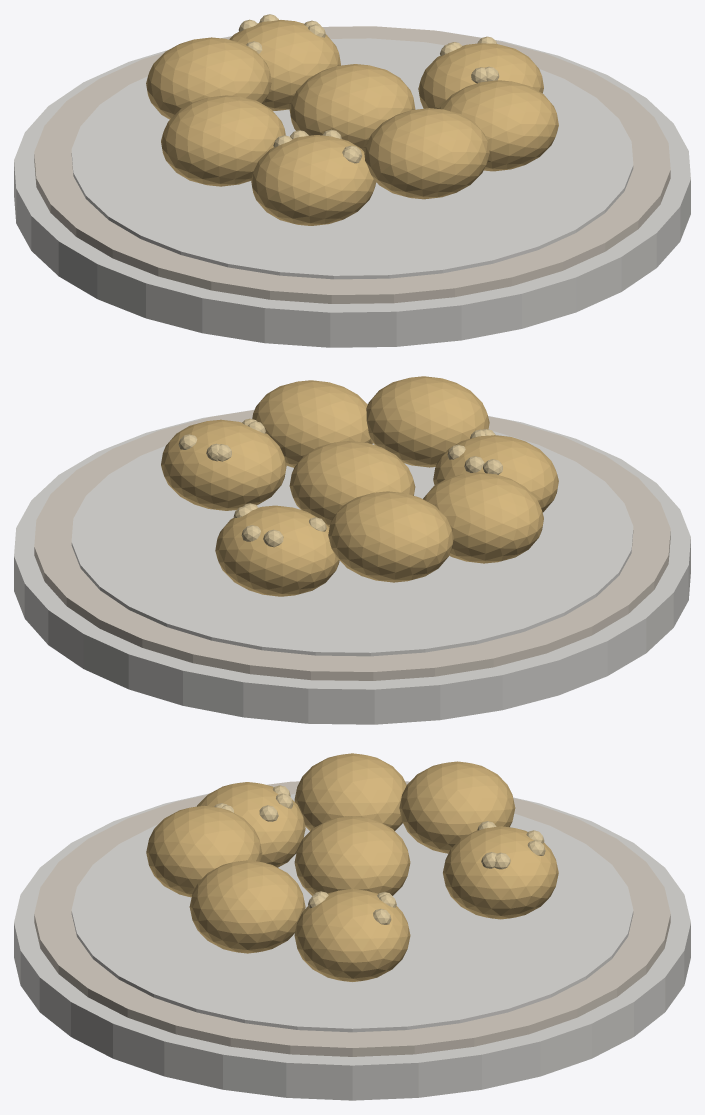
File: ga_vien.glb
3 renders of one model, top to bottom at view 1: azimuth 30°, elevation 25°; view 2: azimuth 150°, elevation 25°; view 3: azimuth 270°, elevation 25°, orthographic.
Visible parts, largest first — view 1: obj_0002, obj_0000, obj_0001, obj_0015, obj_0021, obj_0027, obj_0045, obj_0033, obj_0009, obj_0039, obj_0003; view 2: obj_0002, obj_0000, obj_0001, obj_0033, obj_0003, obj_0039, obj_0015, obj_0027, obj_0009, obj_0045, obj_0021; view 3: obj_0002, obj_0000, obj_0001, obj_0009, obj_0003, obj_0039, obj_0033, obj_0045, obj_0015, obj_0027, obj_0021.
Boxes of the visible parts, bbox=[...] form: obj_0002: bbox=[71, 38, 633, 279]; obj_0000: bbox=[14, 31, 690, 347]; obj_0001: bbox=[34, 26, 670, 303]; obj_0015: bbox=[364, 108, 489, 199]; obj_0021: bbox=[251, 135, 376, 225]; obj_0027: bbox=[161, 95, 285, 186]; obj_0045: bbox=[289, 64, 415, 151]; obj_0033: bbox=[146, 37, 271, 119]; obj_0009: bbox=[439, 80, 558, 171]; obj_0039: bbox=[229, 20, 340, 110]; obj_0003: bbox=[418, 43, 543, 108]; obj_0002: bbox=[71, 431, 633, 656]; obj_0000: bbox=[14, 409, 690, 724]; obj_0001: bbox=[34, 403, 670, 680]; obj_0033: bbox=[328, 491, 453, 582]; obj_0003: bbox=[161, 419, 286, 510]; obj_0039: bbox=[215, 505, 339, 596]; obj_0015: bbox=[366, 376, 489, 467]; obj_0027: bbox=[423, 472, 543, 563]; obj_0009: bbox=[252, 380, 372, 467]; obj_0045: bbox=[289, 441, 415, 527]; obj_0021: bbox=[433, 435, 558, 512]; obj_0002: bbox=[71, 794, 633, 1032]; obj_0000: bbox=[14, 793, 690, 1100]; obj_0001: bbox=[34, 781, 670, 1056]; obj_0009: bbox=[189, 860, 305, 953]; obj_0003: bbox=[294, 889, 410, 981]; obj_0039: bbox=[443, 826, 558, 919]; obj_0033: bbox=[399, 761, 515, 853]; obj_0045: bbox=[294, 816, 410, 895]; obj_0015: bbox=[146, 805, 262, 897]; obj_0027: bbox=[294, 753, 406, 830]; obj_0021: bbox=[197, 782, 305, 867].
Size of the model in its own units: 2.1 by 0.49 by 2.1.
